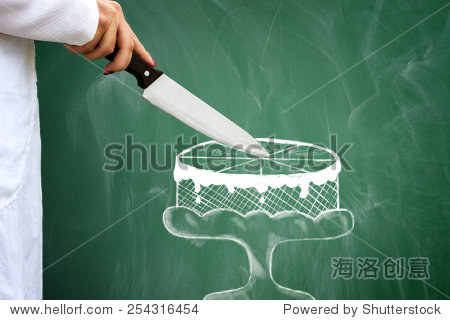knief: (110, 49, 273, 157)
